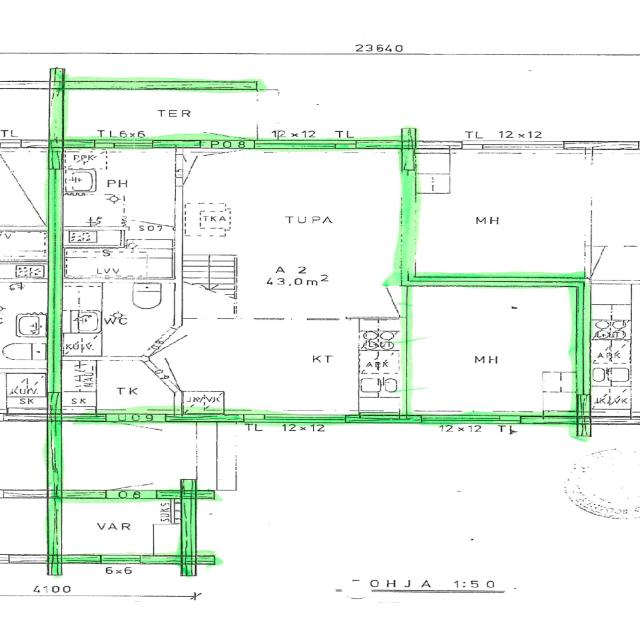window: (89, 140, 166, 152)
zone: (181, 147, 405, 322), (406, 148, 598, 281), (404, 282, 581, 420), (160, 318, 403, 418), (57, 145, 181, 240), (57, 276, 175, 357), (52, 495, 186, 559), (59, 356, 172, 414), (0, 262, 54, 366), (62, 246, 168, 279), (1, 369, 48, 415)
